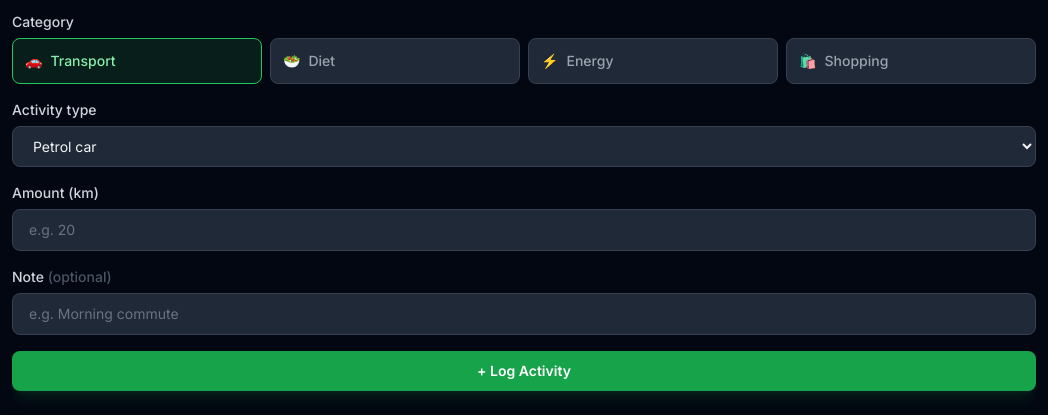
Test: ActivityForm › clears amount field after successful submission
This screenshot has width=1048, height=415.
Type "100" into the number field labelled "Amount (km)" at [524, 230], box [12,209,1036,251]
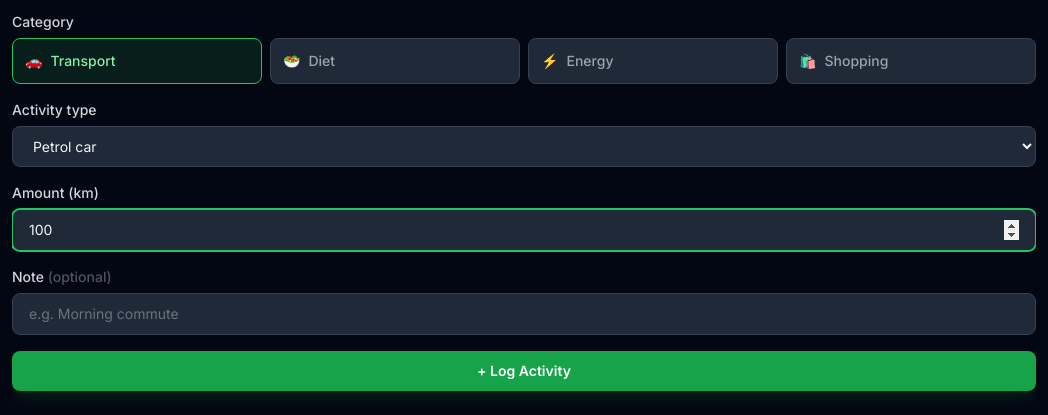
Click the button "+ Log Activity" at [524, 371], box [12,351,1036,391]
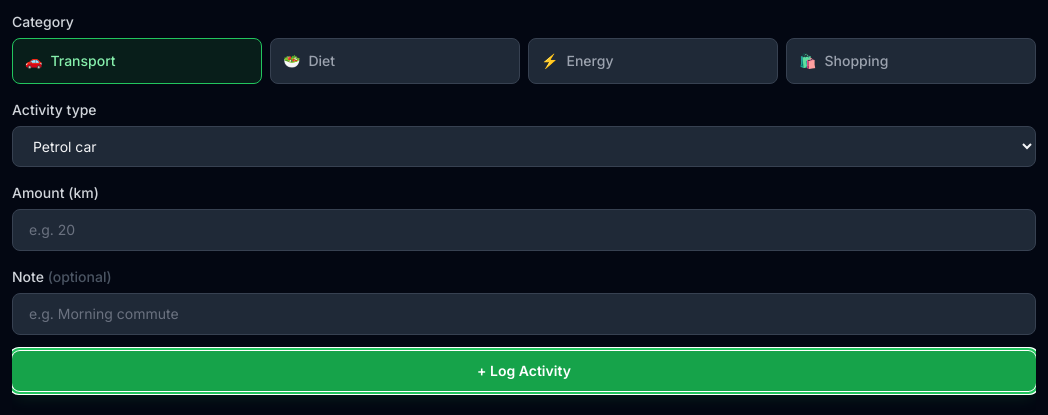
Check: the number field labelled "Amount (km)" is not empty, box [12,209,1036,251]
